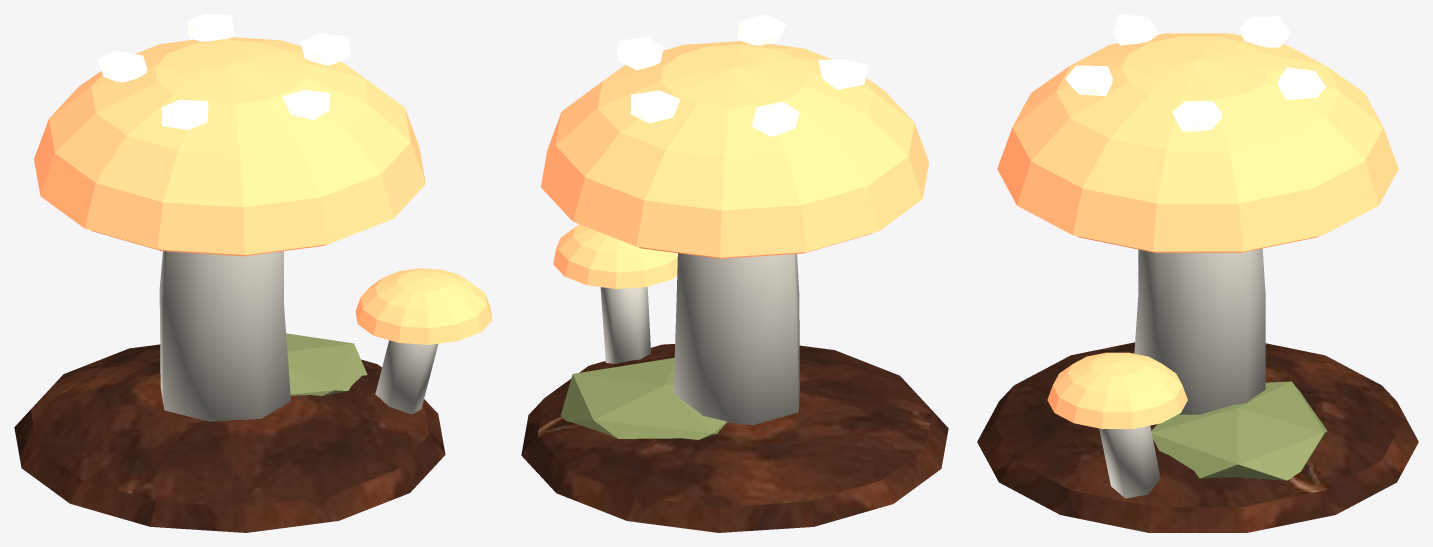
Rendered from firecap.glb.
3 renders of one model, left to right at view 1: azimuth 30°, elevation 25°; view 2: azimuth 150°, elevation 25°; view 3: azimuth 270°, elevation 25°, orthographic. The views are drawn at different scales.
Visible parts, largest first — view 1: model; view 2: model; view 3: model.
Part boxes in pixels (x1,y1,x2,y2): model: (14,14,492,532); model: (521,14,948,532); model: (977,14,1418,532).
Bounding box in the file's own units: 0.2314 × 0.2128 × 0.22.
Materials: 6 (1 with a texture image).
